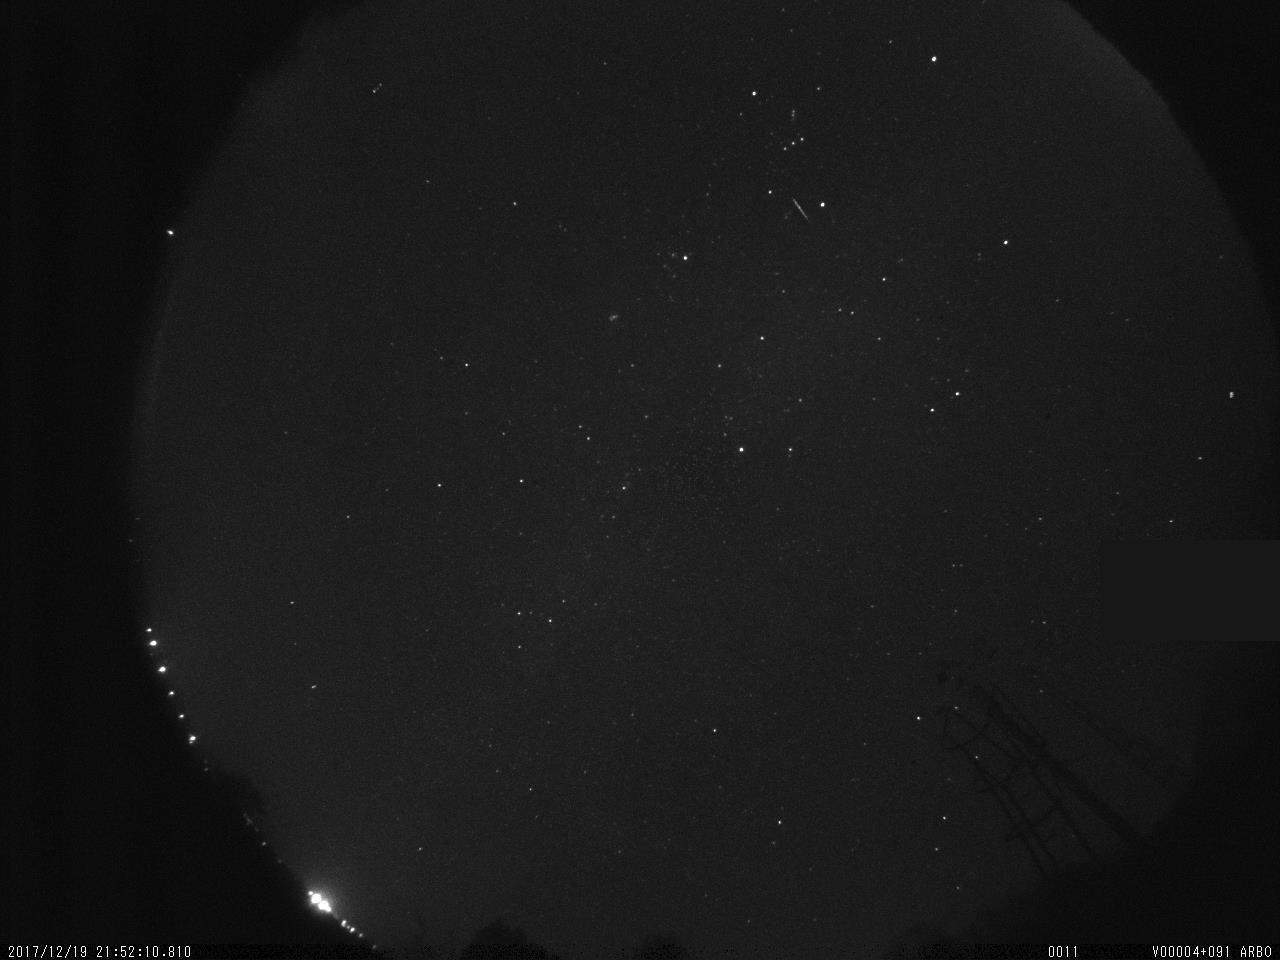meteor: (761, 174, 858, 248)
